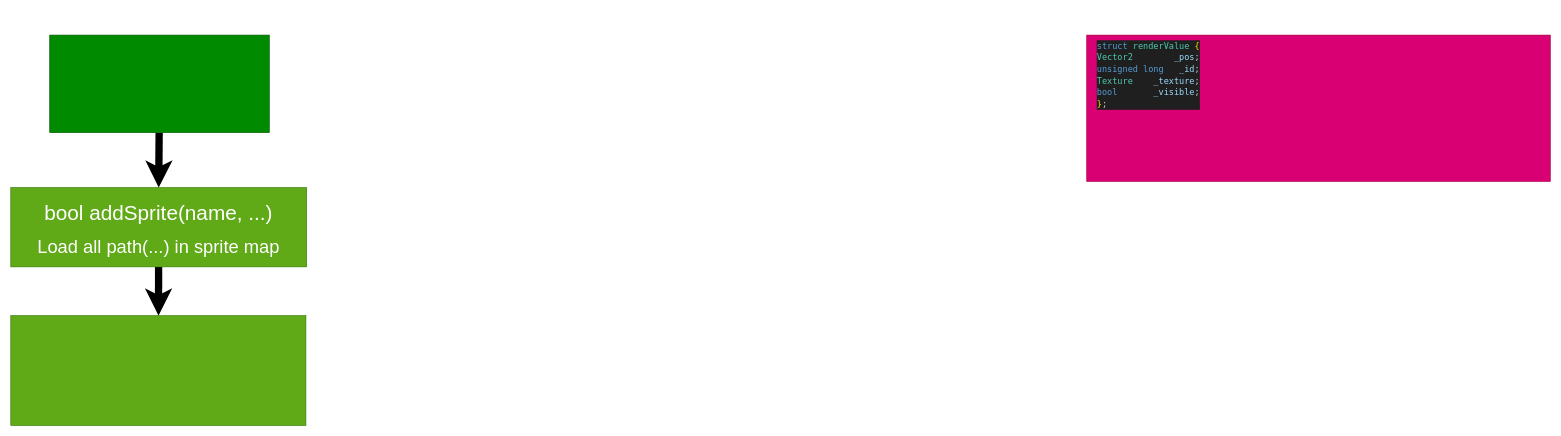
The diagram is 1561 pixels wide and 436 high, and some of its shapes have lost their labels. Here are the shapes that lost their labels. From the top down, the centre of each, then its label:
point 159,83: Sprite (texture2D)
point 158,370: vec_tex * getSprite(name) get *vector texture2D (sprite animation)
